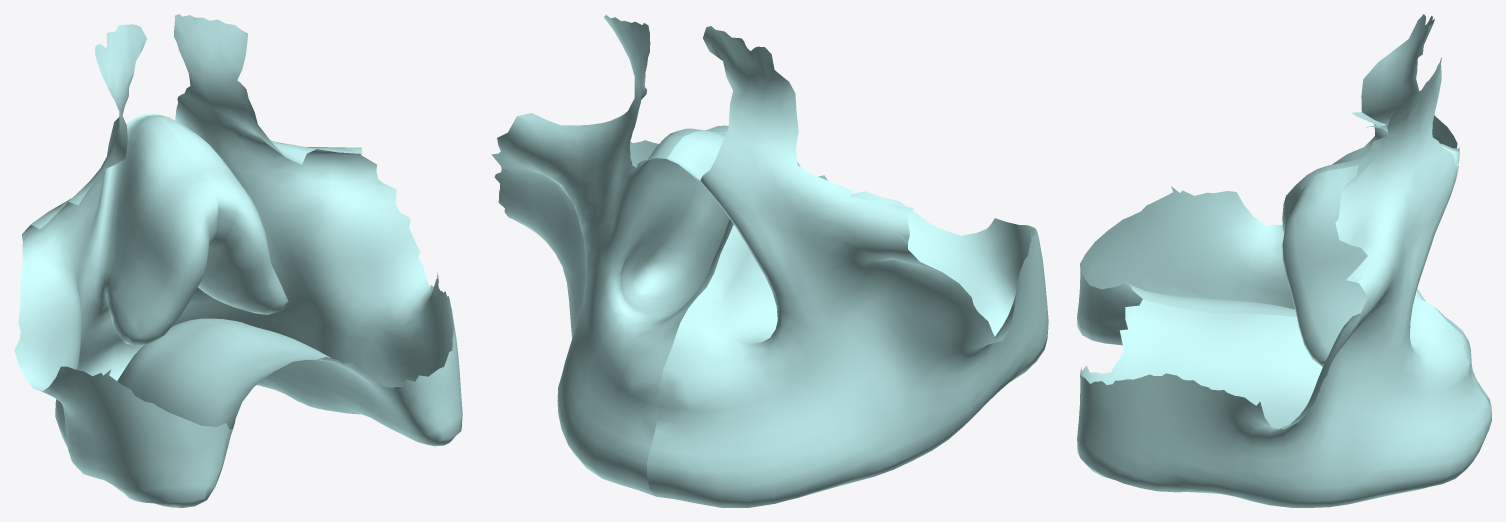
File: Maxilla.fbx
The picture shows the model from 3 angles, left to right: view 1: azimuth 30°, elevation 25°; view 2: azimuth 150°, elevation 25°; view 3: azimuth 270°, elevation 25°; orthographic projection. The views are drawn at different scales.
Visible parts, largest first — view 1: Maxilla; view 2: Maxilla; view 3: Maxilla.
Part boxes in pixels (box(x1,y1,x2,y2)): Maxilla: box(14, 14, 462, 507); Maxilla: box(491, 14, 1048, 507); Maxilla: box(1077, 14, 1491, 507).
Bounding box in the file's own units: 381 × 346 × 316.
